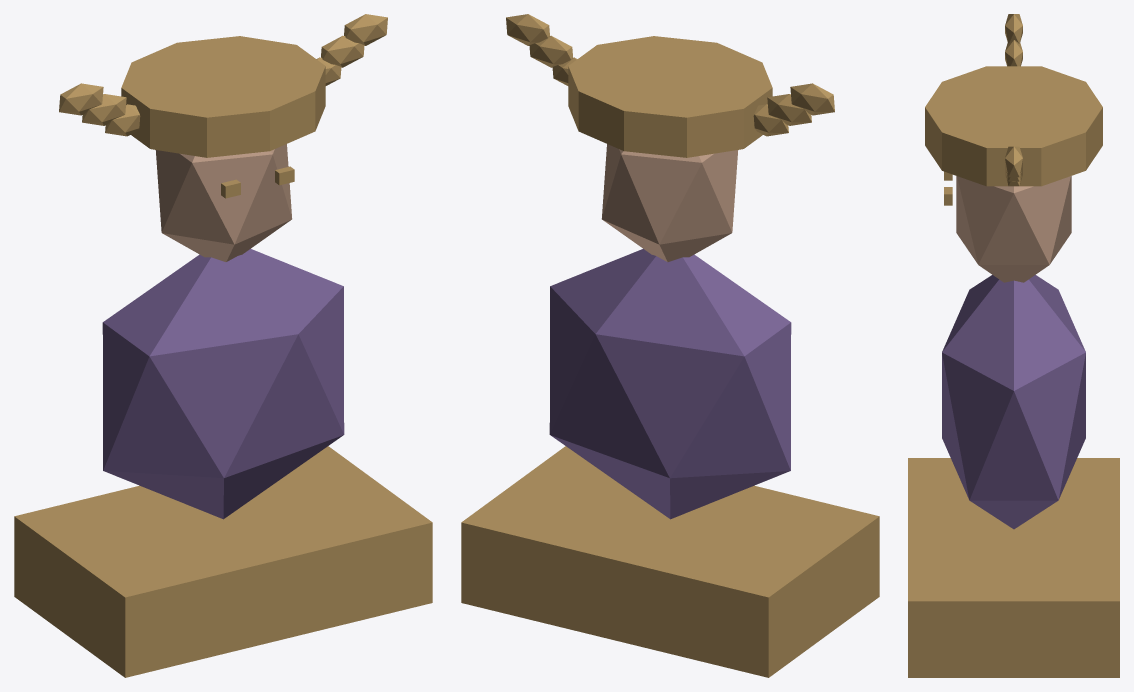
Rendered from npc_obol.glb.
The picture shows the model from 3 angles, left to right: view 1: azimuth 30°, elevation 25°; view 2: azimuth 150°, elevation 25°; view 3: azimuth 270°, elevation 25°; orthographic projection. The views are drawn at different scales.
Parts seen in each view (by area): view 1: PEDESTAL, BUST, HAT, HEAD, WING.002, WING.005, WING.004, WING.001, WING; view 2: PEDESTAL, BUST, HAT, HEAD, WING.002, WING.005, WING.004, WING.001, WING; view 3: PEDESTAL, BUST, HAT, HEAD, WING.005, WING.002, WING.001.
Boxes of the visible parts, <box> form: PEDESTAL: <box>14,446,432,677</box>; BUST: <box>102,249,344,519</box>; HAT: <box>121,36,325,157</box>; HEAD: <box>155,144,292,261</box>; WING.002: <box>59,83,103,115</box>; WING.005: <box>344,14,387,45</box>; WING.004: <box>321,35,364,67</box>; WING.001: <box>82,94,126,125</box>; WING: <box>105,104,140,136</box>; PEDESTAL: <box>461,446,879,677</box>; BUST: <box>549,249,791,519</box>; HAT: <box>568,36,772,157</box>; HEAD: <box>601,144,738,261</box>; WING.002: <box>790,83,834,115</box>; WING.005: <box>506,14,549,45</box>; WING.004: <box>529,35,572,67</box>; WING.001: <box>767,94,811,125</box>; WING: <box>753,104,788,136</box>; PEDESTAL: <box>908,458,1119,677</box>; BUST: <box>942,275,1085,529</box>; HAT: <box>925,66,1102,186</box>; HEAD: <box>956,176,1071,282</box>; WING.005: <box>1005,146,1022,177</box>; WING.002: <box>1005,14,1022,43</box>; WING.001: <box>1005,40,1022,66</box>.
Bounding box in the file's own units: 0.8563 × 1.37 × 0.5.
